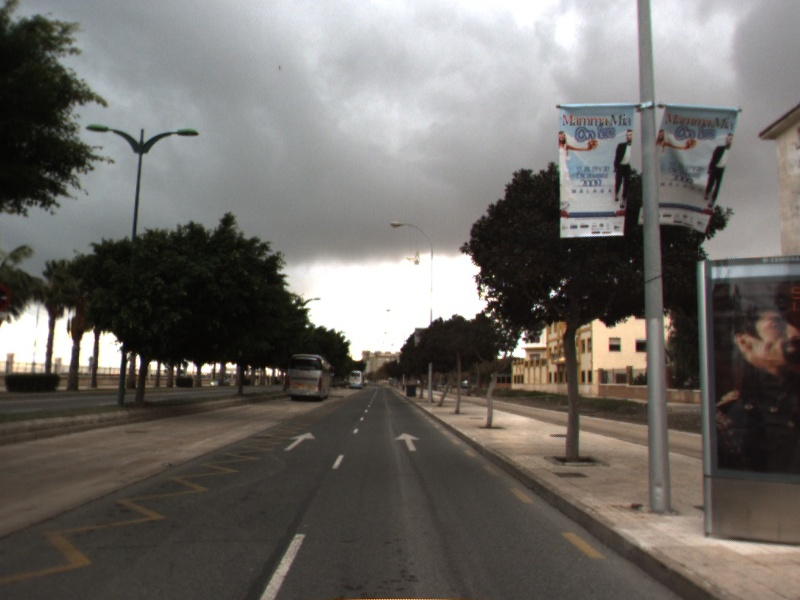STRAIGHT: (282, 430, 318, 452), (392, 431, 424, 453)
